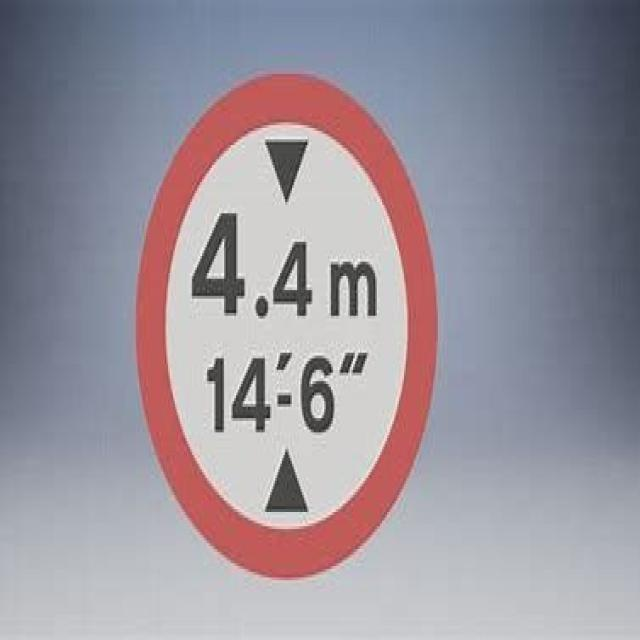height limit: (133, 67, 445, 580)
